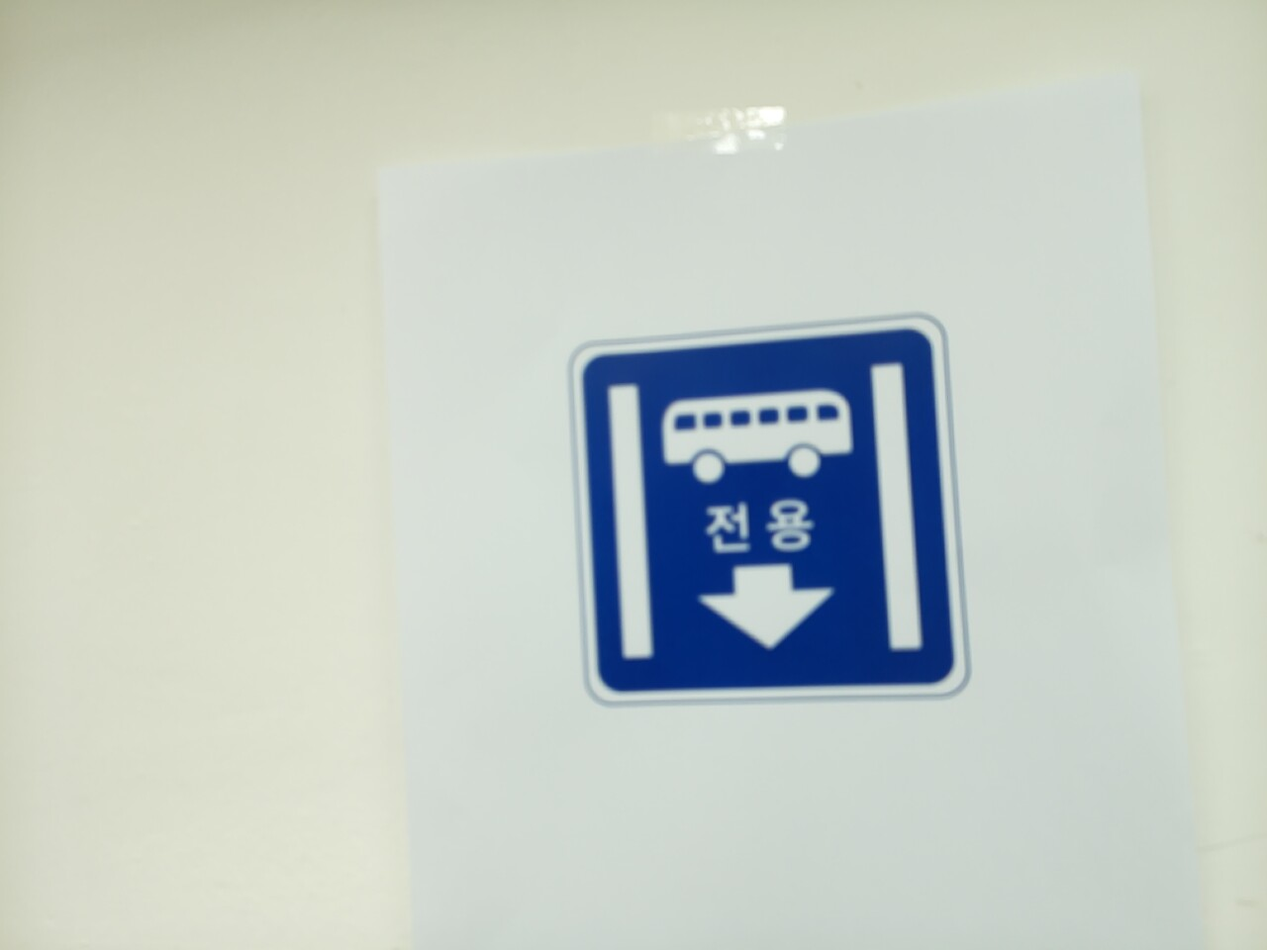bus_only_lane: (572, 318, 965, 703)
